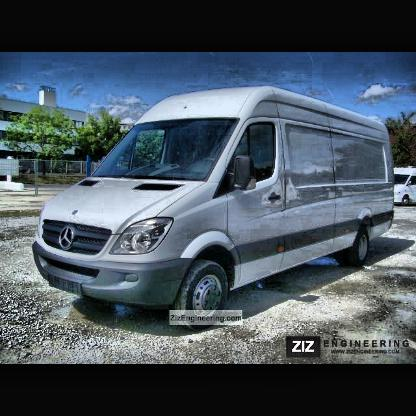Mercedes-Benz Sprinter Van 2012: (31, 86, 397, 333)
